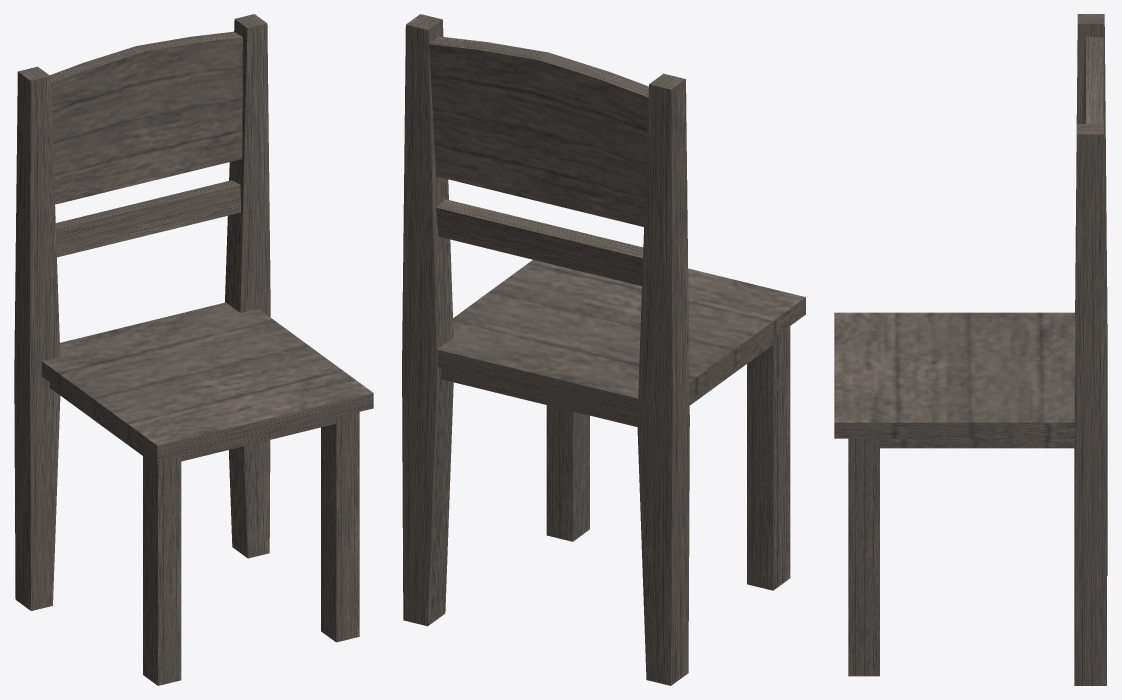
Rendered from chair3.fbx.
The picture shows the model from 3 angles, left to right: view 1: azimuth 30°, elevation 25°; view 2: azimuth 150°, elevation 25°; view 3: azimuth 270°, elevation 25°; orthographic projection. The views are drawn at different scales.
Visible parts, largest first — view 1: Cube.006; view 2: Cube.006; view 3: Cube.006.
Part boxes in pixels (x1,y1,x2,y2): Cube.006: (14,14,373,685); Cube.006: (402,14,805,685); Cube.006: (834,14,1107,685).
Size of the model in its own units: 167 by 350 by 157.
Materials: 1 (1 with a texture image).
